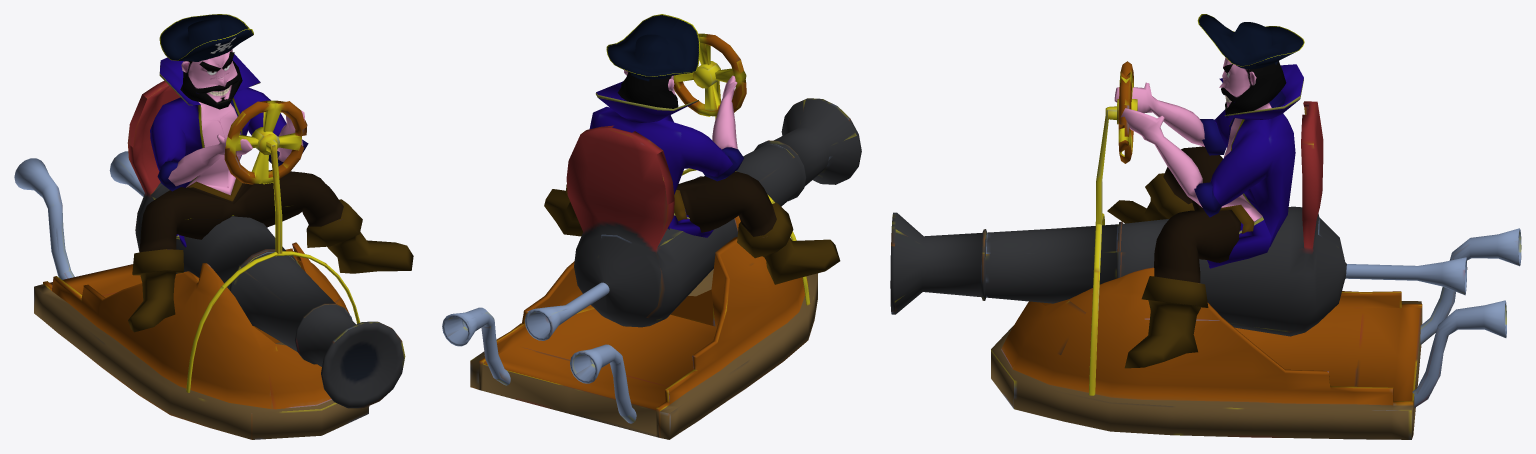
Rendered from PirataHabilidad_000198.obj.
3 renders of one model, left to right at view 1: azimuth 30°, elevation 25°; view 2: azimuth 150°, elevation 25°; view 3: azimuth 270°, elevation 25°, orthographic. The views are drawn at different scales.
Parts seen in each view (by area): view 1: carro_pirata_carro_pirata.001, Pirata_PirataH; view 2: carro_pirata_carro_pirata.001, Pirata_PirataH; view 3: carro_pirata_carro_pirata.001, Pirata_PirataH.
Boxes of the visible parts, box(x1,y1,x2,y2) form: carro_pirata_carro_pirata.001: box(14, 80, 405, 439); Pirata_PirataH: box(128, 14, 413, 332); carro_pirata_carro_pirata.001: box(442, 33, 861, 439); Pirata_PirataH: box(544, 14, 840, 284); carro_pirata_carro_pirata.001: box(890, 61, 1521, 439); Pirata_PirataH: box(1107, 14, 1304, 368).
Size of the model in its own units: 6.97 by 7.63 by 12.1.
